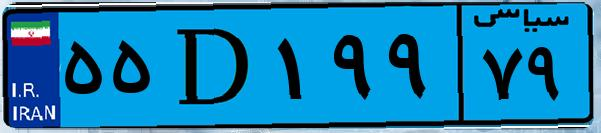1: (270, 28, 330, 110)
5: (57, 26, 110, 100), (110, 28, 158, 98)
7: (475, 38, 525, 113)
9: (385, 28, 445, 110), (330, 28, 385, 110), (525, 38, 570, 115)
D: (158, 12, 270, 120)
